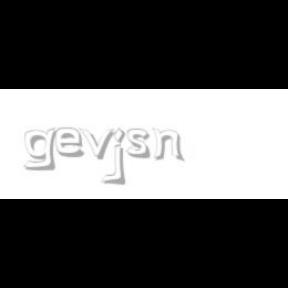e: (56, 128, 88, 158)
g: (24, 128, 60, 171)
j: (110, 128, 140, 186)
n: (151, 128, 185, 162)
s: (127, 128, 155, 160)
v: (79, 128, 119, 160)
